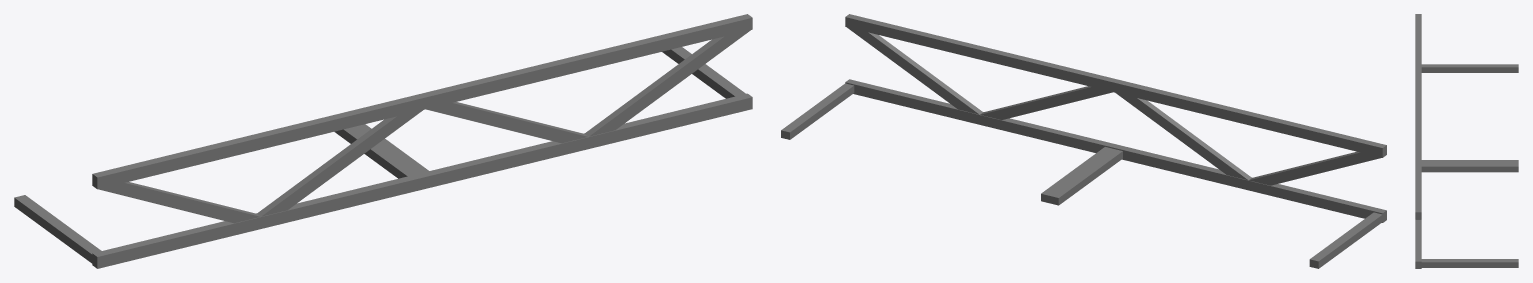
File: Int_GymGrateBars01.fbx
3 renders of one model, left to right at view 1: azimuth 30°, elevation 25°; view 2: azimuth 150°, elevation 25°; view 3: azimuth 270°, elevation 25°, orthographic. The views are drawn at different scales.
Visible parts, largest first — view 1: Int_GymGrateBars01; view 2: Int_GymGrateBars01; view 3: Int_GymGrateBars01.
Boxes of the visible parts, x1,y1,x2,y2 form: Int_GymGrateBars01: [14, 14, 752, 268]; Int_GymGrateBars01: [781, 14, 1386, 268]; Int_GymGrateBars01: [1415, 14, 1518, 268].
Size of what is drawn, in the model's own units: 750 by 165 by 100.
